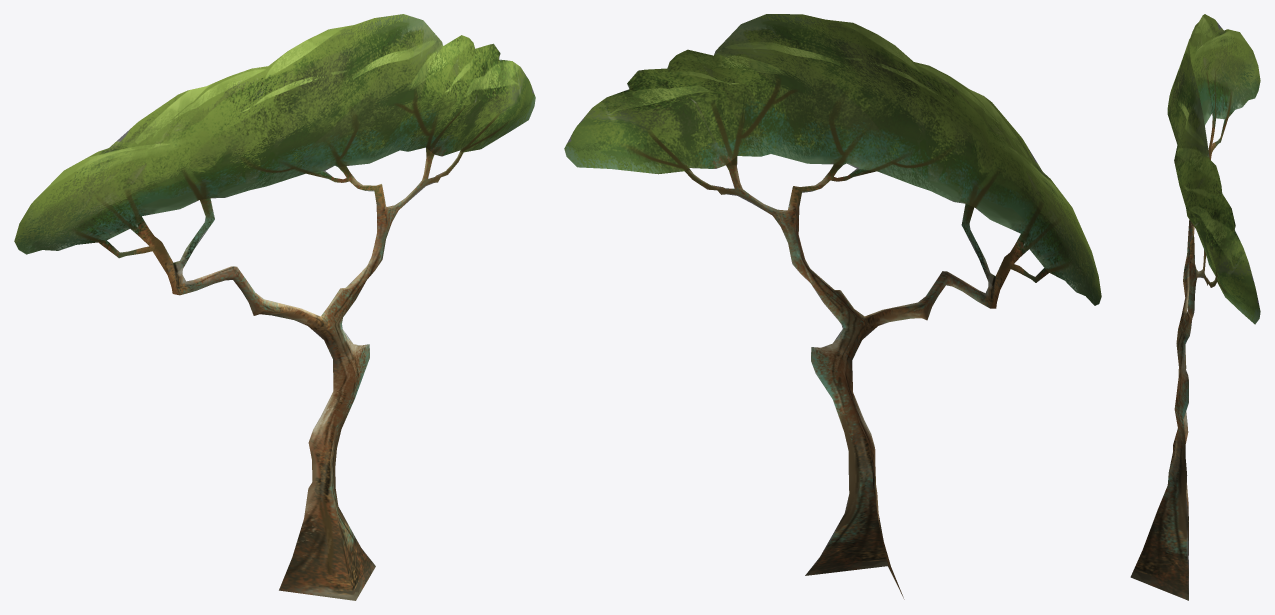
The model's file is savanna_tree01.fbx.
3 views of the same model, side by side, from view 1: azimuth 30°, elevation 25°; view 2: azimuth 150°, elevation 25°; view 3: azimuth 270°, elevation 25° (orthographic). The views are drawn at different scales.
Visible parts, largest first — view 1: savanna_tree01:polySurface3; view 2: savanna_tree01:polySurface3; view 3: savanna_tree01:polySurface3.
Part boxes in pixels (<box>): savanna_tree01:polySurface3: <box>14,14,535,600</box>; savanna_tree01:polySurface3: <box>564,14,1101,599</box>; savanna_tree01:polySurface3: <box>1130,14,1260,600</box>.
Size of the model in its own units: 13.36 by 13.44 by 2.98.
